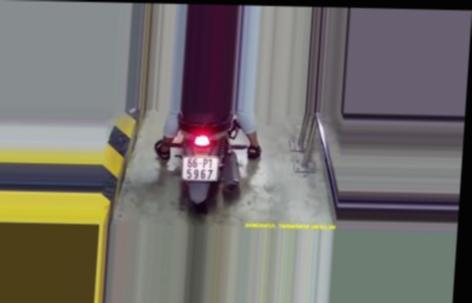License_Plate: (178, 153, 223, 185)
